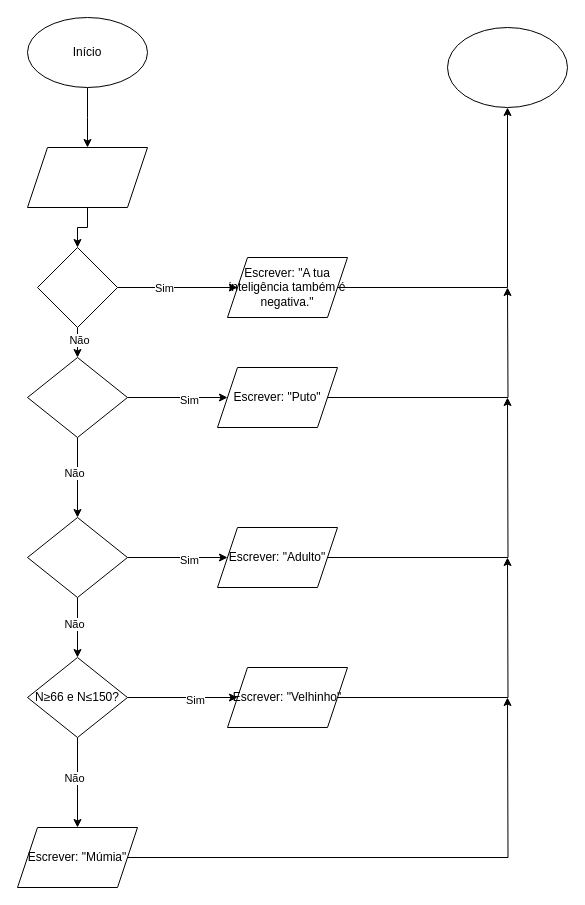
Image size: 585x905. Some labels were removed from this diagram. The shapes that lost their labels are listed below. From the top down, each one's box as (x1, y1, x2, y2) in pixels, then its label:
(26, 146, 148, 208): Ler N
(36, 246, 118, 328): N<0
(26, 356, 128, 438): N≥0 e N≤17?
(26, 516, 128, 598): N≥18 e N≤65?
